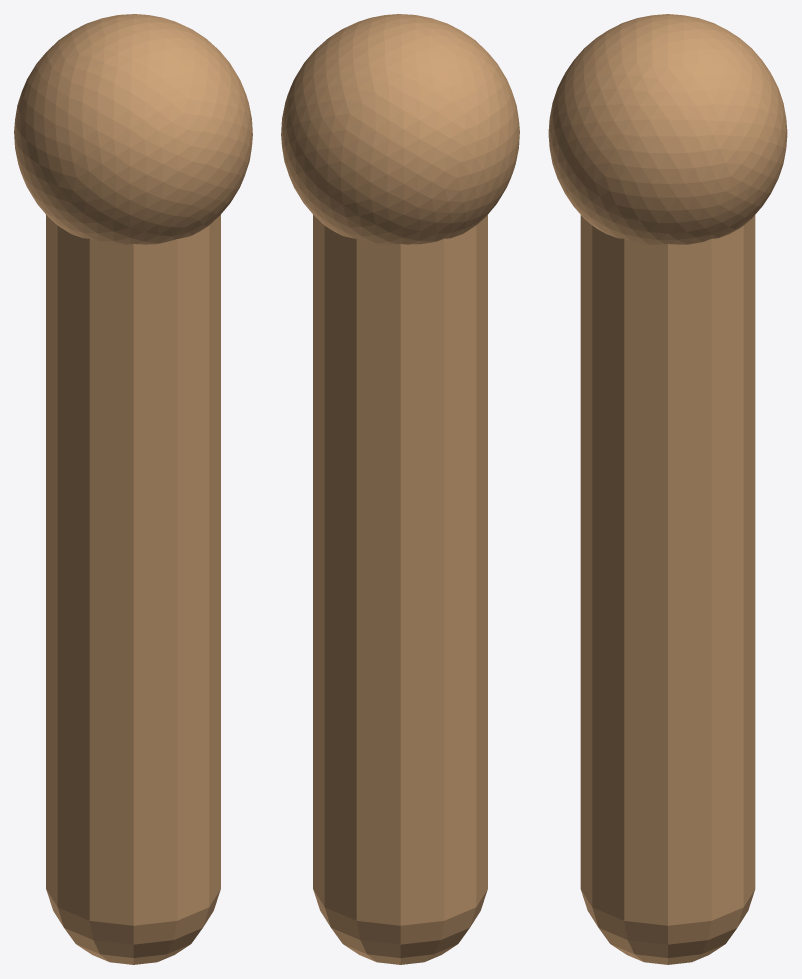
The picture shows the model from 3 angles, left to right: view 1: azimuth 30°, elevation 25°; view 2: azimuth 150°, elevation 25°; view 3: azimuth 270°, elevation 25°; orthographic projection.
Parts seen in each view (by area): view 1: world; view 2: world; view 3: world.
Part boxes in pixels (left/top/right/bottom): world: left=14, top=14, right=252, bottom=964; world: left=281, top=14, right=519, bottom=964; world: left=548, top=14, right=787, bottom=964.
Bounding box in the file's own units: 0.092 × 0.396 × 0.092.
